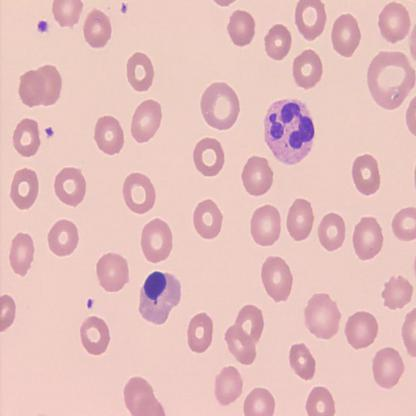NRC: (137, 270, 182, 326)
